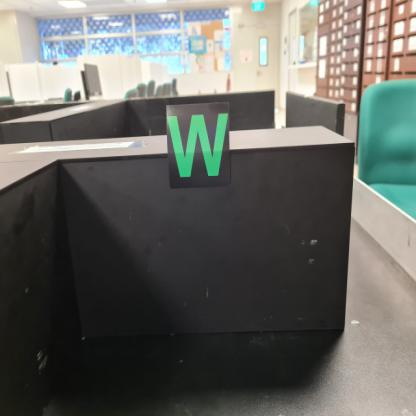w: (167, 103, 231, 188)
